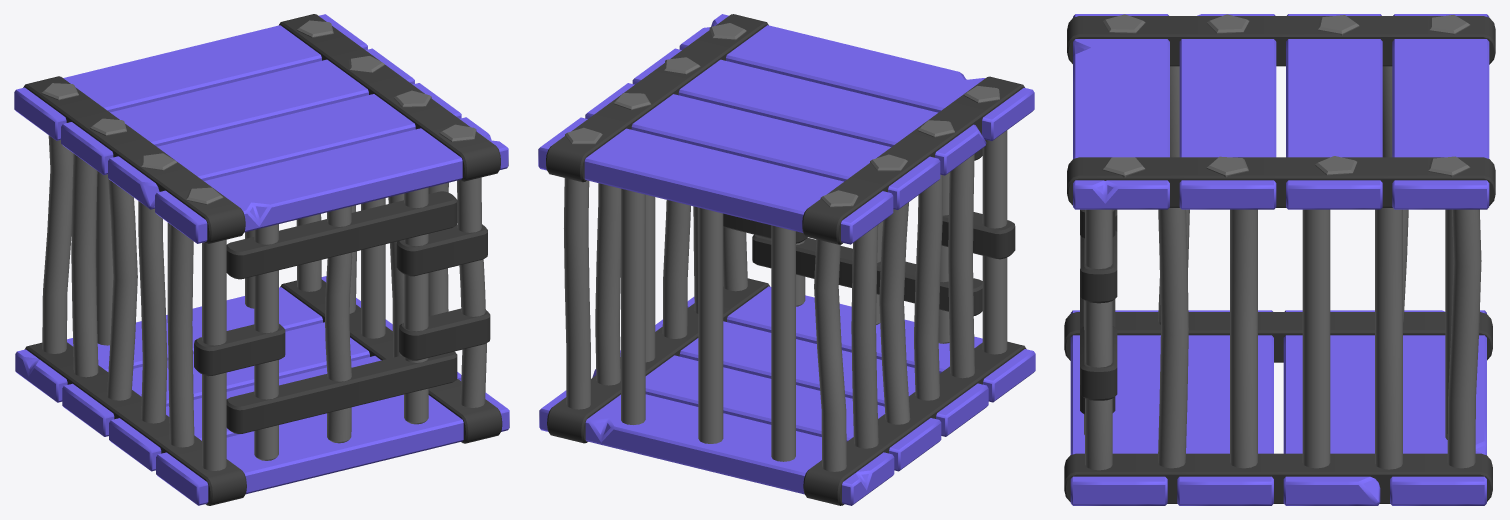
File: Cage.fbx
3 renders of one model, left to right at view 1: azimuth 30°, elevation 25°; view 2: azimuth 150°, elevation 25°; view 3: azimuth 270°, elevation 25°, orthographic. The views are drawn at different scales.
Visible parts, largest first — view 1: Cage, Cage_Door; view 2: Cage, Cage_Door; view 3: Cage, Cage_Door.
Part boxes in pixels (x1=…): Cage: x1=14, y1=14, x2=509, y2=505; Cage_Door: x1=194, y1=187, x2=490, y2=460; Cage: x1=538, y1=14, x2=1035, y2=505; Cage_Door: x1=723, y1=148, x2=1015, y2=343; Cage: x1=1064, y1=14, x2=1495, y2=505; Cage_Door: x1=1080, y1=209, x2=1117, y2=434.
Bounding box in the file's own units: 5.46 × 4.87 × 5.74.
